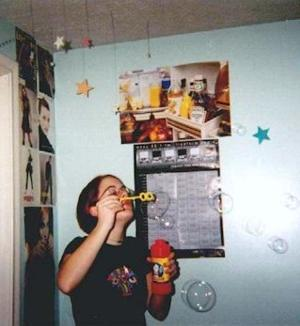person: (58, 167, 182, 326)
